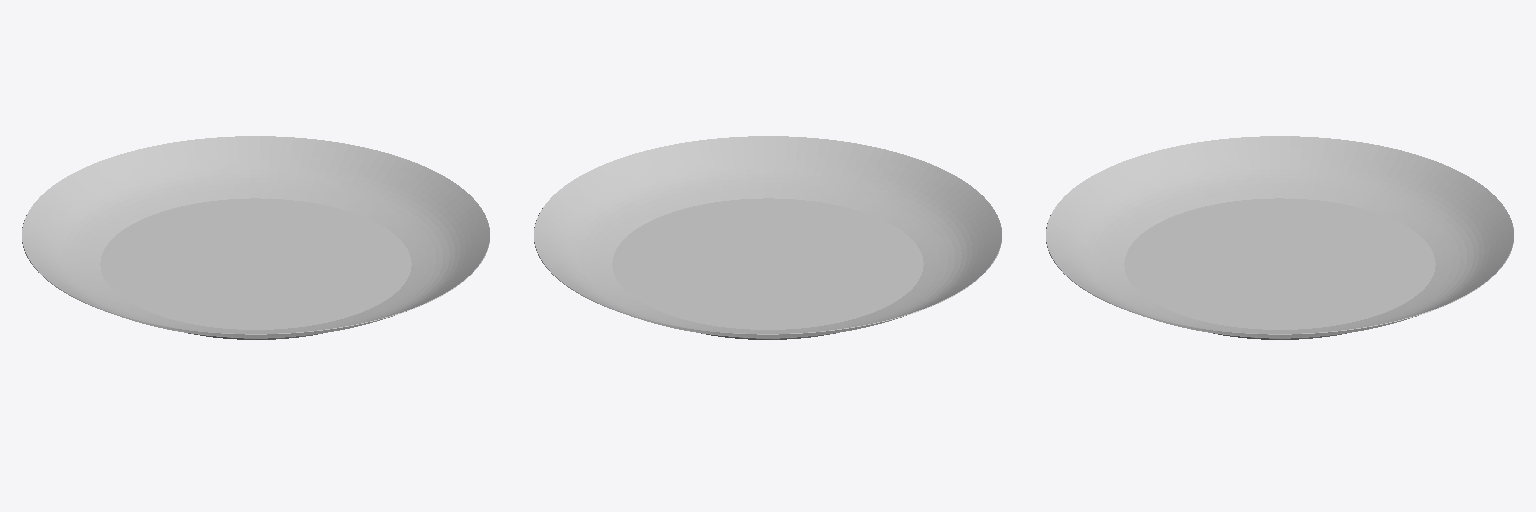
Rendered from plate.obj.
3 views of the same model, side by side, from view 1: azimuth 30°, elevation 25°; view 2: azimuth 150°, elevation 25°; view 3: azimuth 270°, elevation 25° (orthographic).
Bounding box in the file's own units: 1 × 0.0987 × 1.